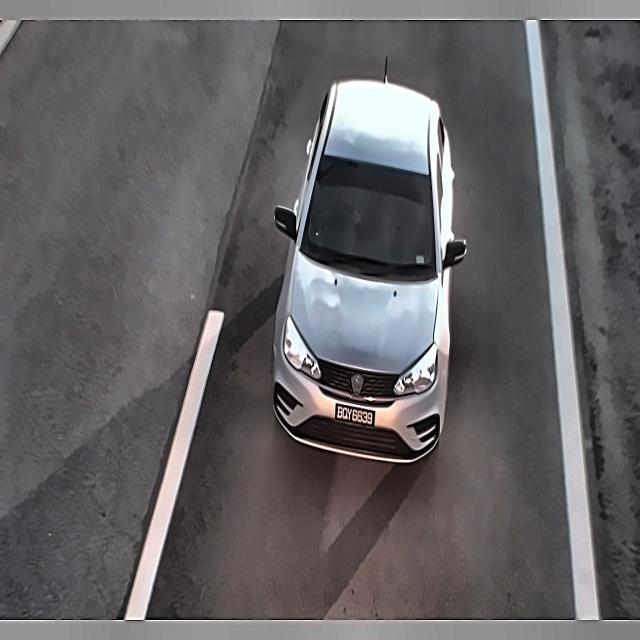car: (333, 396, 379, 437)
